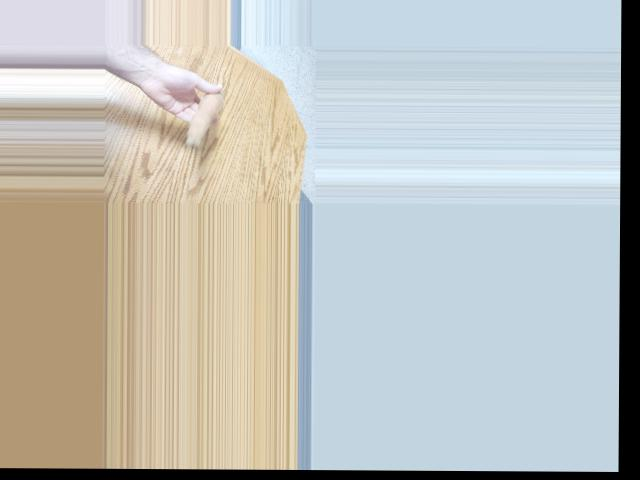sweet_potato: (183, 86, 223, 146)
